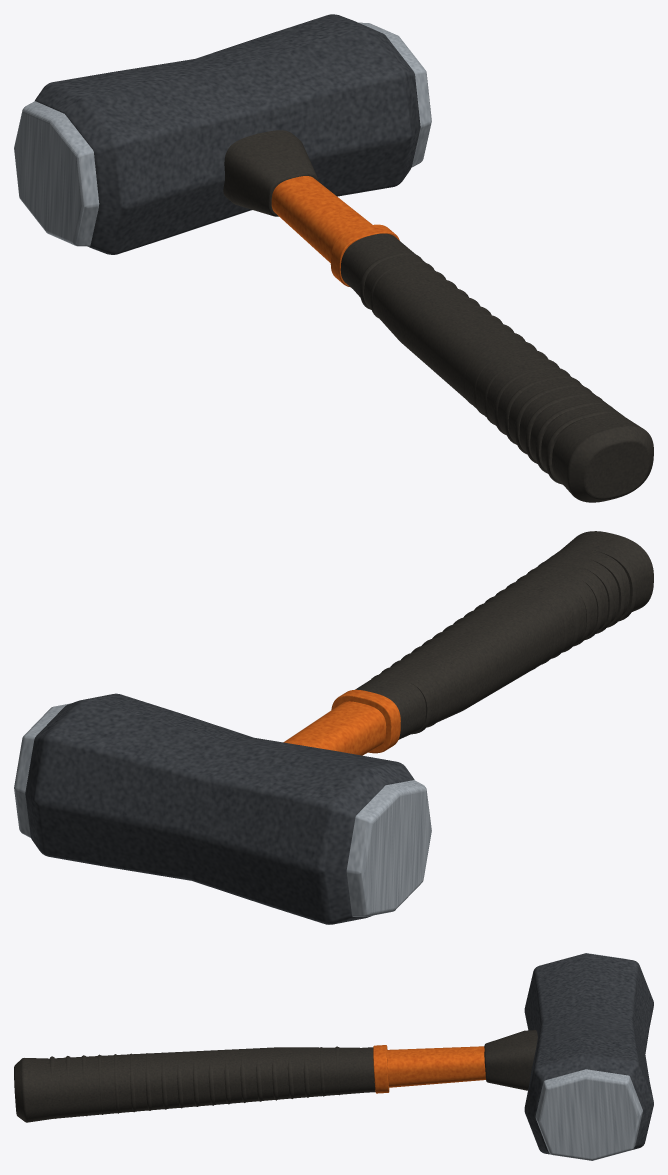
The model's file is hammer5.obj.
The picture shows the model from 3 angles, top to bottom: view 1: azimuth 30°, elevation 25°; view 2: azimuth 150°, elevation 25°; view 3: azimuth 270°, elevation 25°; orthographic projection. The views are drawn at different scales.
Visible parts, largest first — view 1: Heavy_octagonal_forged_head, Moulded_rubber_grip.001, Ground_club_impact_face, Impact_protection_below_head.001, Composite_shaft.001, Ground_club_impact_face.001, Coloured_grip_collar.001; view 2: Heavy_octagonal_forged_head, Moulded_rubber_grip.001, Ground_club_impact_face, Composite_shaft.001, Ground_club_impact_face.001, Coloured_grip_collar.001, Grip_moulded_rib_00.001, Grip_moulded_rib_01.001; view 3: Moulded_rubber_grip.001, Heavy_octagonal_forged_head, Ground_club_impact_face.001, Composite_shaft.001, Impact_protection_below_head.001, Coloured_grip_collar.001.
Part boxes in pixels (box(x1,y1,x2,y2)): Heavy_octagonal_forged_head: box(35, 14, 420, 254); Moulded_rubber_grip.001: box(340, 233, 653, 502); Ground_club_impact_face: box(14, 101, 99, 246); Impact_protection_below_head.001: box(223, 130, 317, 216); Composite_shaft.001: box(271, 176, 372, 263); Ground_club_impact_face.001: box(359, 22, 431, 167); Coloured_grip_collar.001: box(330, 224, 399, 287); Heavy_octagonal_forged_head: box(25, 693, 414, 924); Moulded_rubber_grip.001: box(355, 531, 653, 739); Ground_club_impact_face: box(346, 780, 431, 916); Composite_shaft.001: box(283, 701, 386, 755); Ground_club_impact_face.001: box(14, 703, 70, 837); Coloured_grip_collar.001: box(331, 689, 400, 753); Grip_moulded_rib_00.001: box(565, 545, 635, 621); Grip_moulded_rib_01.001: box(551, 552, 624, 627); Moulded_rubber_grip.001: box(14, 1047, 375, 1122); Heavy_octagonal_forged_head: box(524, 953, 653, 1154); Ground_club_impact_face.001: box(535, 1069, 642, 1160); Composite_shaft.001: box(387, 1046, 485, 1087); Impact_protection_below_head.001: box(484, 1030, 537, 1090); Coloured_grip_collar.001: box(373, 1045, 389, 1093).
Bounding box in the file's own units: 0.13 × 0.055 × 0.2827.
4 materials, 4 textured.
